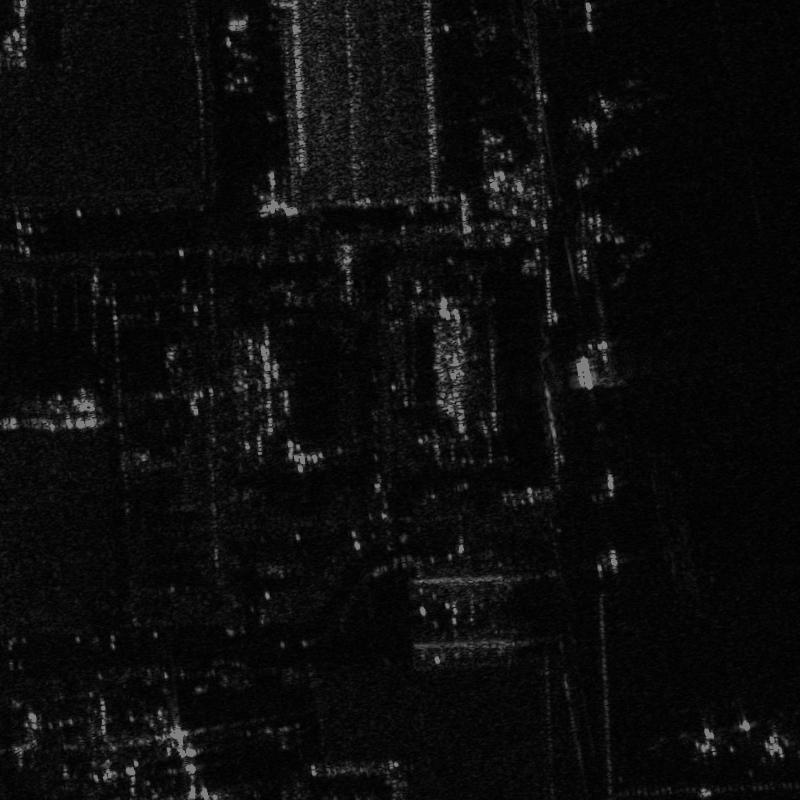ARJ21: (674, 710, 733, 762)
